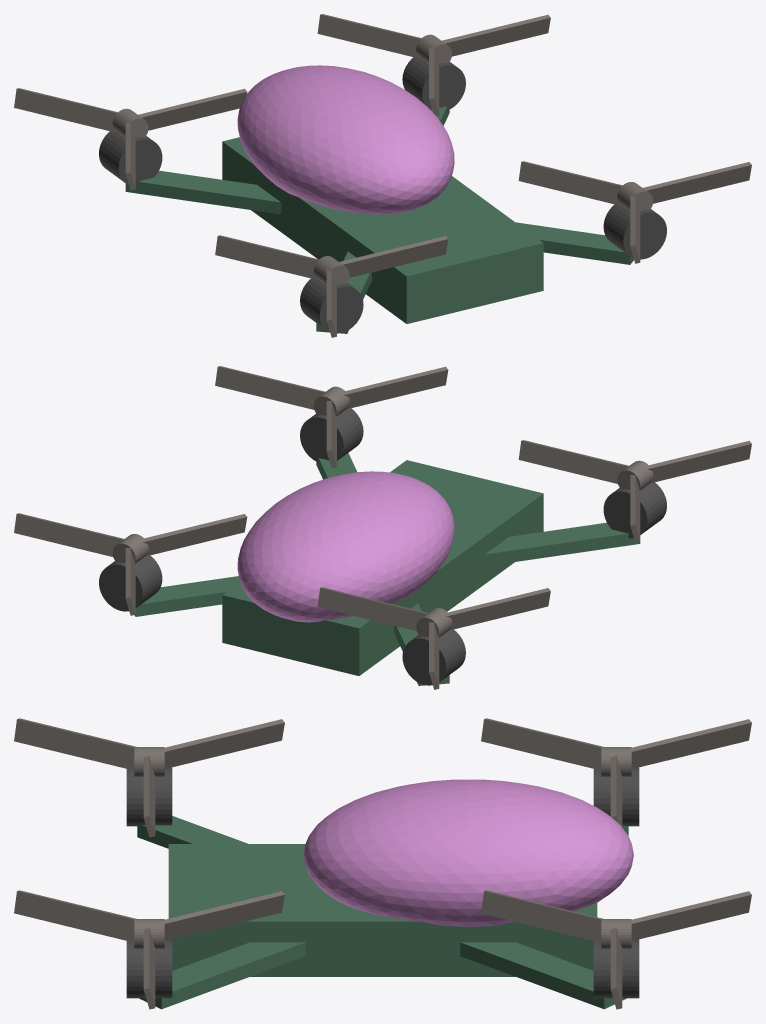
Rendered from ButterFly EVO.glb.
3 renders of one model, top to bottom at view 1: azimuth 30°, elevation 25°; view 2: azimuth 150°, elevation 25°; view 3: azimuth 270°, elevation 25°, orthographic. The views are drawn at different scales.
Visible parts, largest first — view 1: canopy, frame_body, prop_0, prop_1, prop_2, prop_3, arm_3, arm_0, motor_0, motor_2, motor_3, motor_1; view 2: canopy, frame_body, prop_3, prop_2, prop_0, prop_1, arm_2, arm_1, motor_1, motor_3, motor_2, motor_0 (+1 smaller); view 3: canopy, frame_body, prop_1, prop_2, prop_0, prop_3, arm_1, arm_0, motor_0, motor_1, motor_2, motor_3 (+1 smaller).
Boxes of the visible parts, box(x1,y1,x2,y2) form: canopy: box(237, 65, 454, 214); frame_body: box(222, 137, 543, 323); prop_0: box(518, 161, 751, 263); prop_1: box(317, 14, 550, 115); prop_2: box(215, 235, 448, 337); prop_3: box(14, 88, 247, 190); arm_3: box(125, 170, 281, 214); arm_0: box(516, 222, 633, 264); motor_0: box(603, 204, 666, 259); motor_2: box(300, 278, 363, 333); motor_3: box(99, 131, 162, 186); motor_1: box(402, 57, 465, 110); canopy: box(237, 471, 454, 622); frame_body: box(222, 460, 543, 675); prop_3: box(317, 587, 550, 689); prop_2: box(518, 440, 751, 542); prop_0: box(215, 366, 448, 468); prop_1: box(14, 513, 247, 615); arm_2: box(484, 522, 640, 566); arm_1: box(134, 576, 240, 616); motor_1: box(99, 555, 162, 611); motor_3: box(402, 629, 465, 685); motor_2: box(603, 482, 666, 538); motor_0: box(300, 408, 363, 462); canopy: box(303, 779, 633, 926); frame_body: box(168, 844, 597, 976); prop_1: box(481, 890, 751, 1009); prop_2: box(14, 718, 284, 837); prop_0: box(14, 890, 284, 1009); prop_3: box(481, 718, 751, 827); arm_1: box(460, 942, 626, 1009); arm_0: box(139, 942, 305, 1009); motor_0: box(126, 939, 172, 998); motor_1: box(593, 939, 639, 998); motor_2: box(126, 767, 172, 826); motor_3: box(593, 767, 639, 826).
Size of the model in its own units: 0.2097 by 0.0516 by 0.2411.
